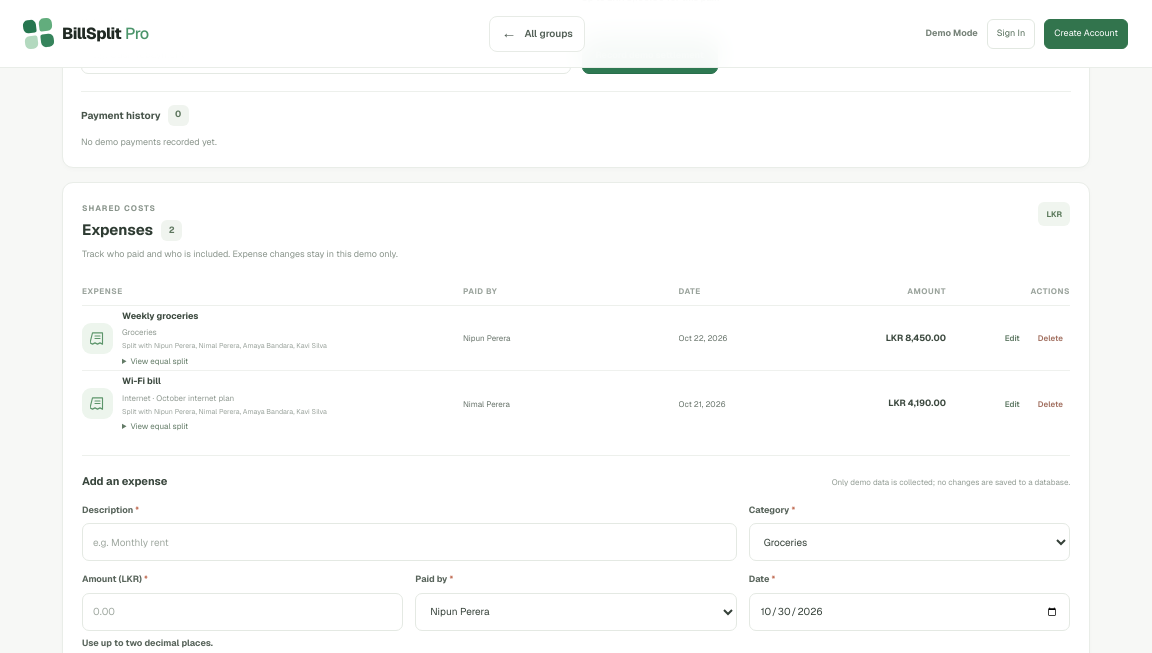
Test case: group management screens › shows the precise equal share for each expense participant
(page scrolled)
Click the heading "View equal split" below "Weekly groceries": click(155, 361) [122,355,188,367]
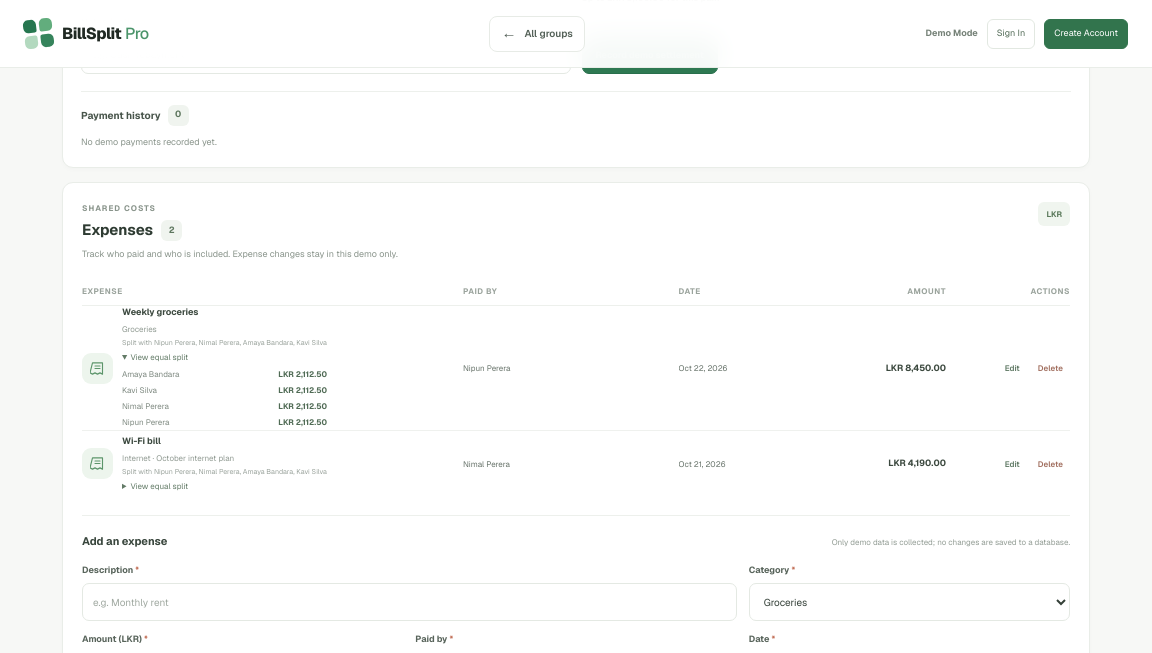
Check: the text "LKR 2,112.50" is shown 4 times, box [278,368,327,380]; [278,384,327,396]; [278,400,327,412]; [278,416,327,428]
